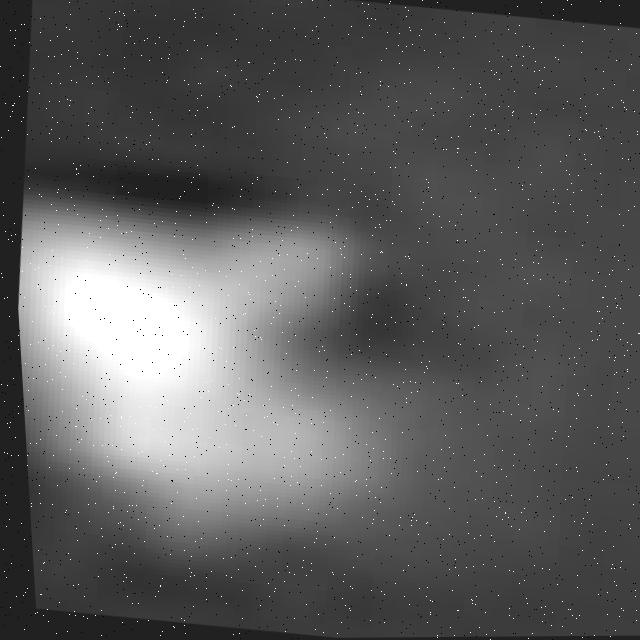person: (10, 183, 466, 587)
